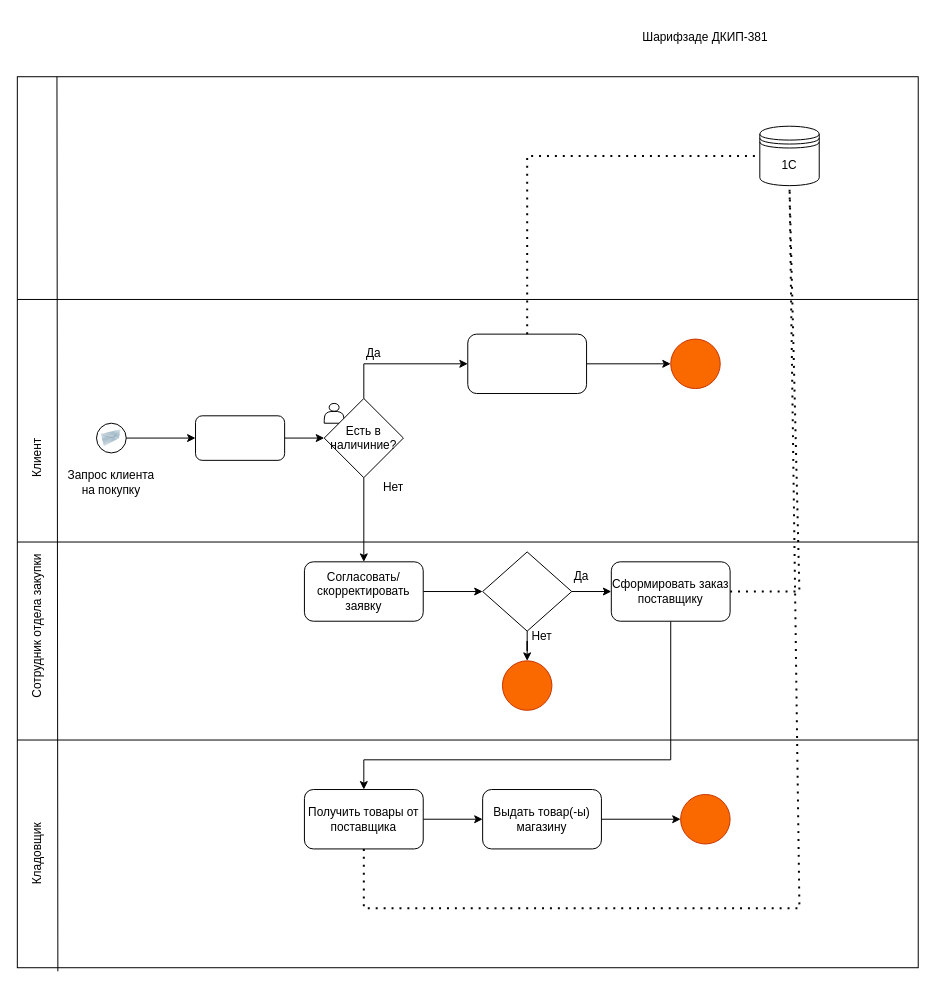
This 937x990 diagram has some shape labels left out. The shapes that lost their labels are listed below. From the top down, each one's centre as x and y in pixels, then its label:
At pixel 527 363: "Зарезервировать товар".
At pixel 240 437: "Обработка заказа".
At pixel 527 591: "Согласована?".
